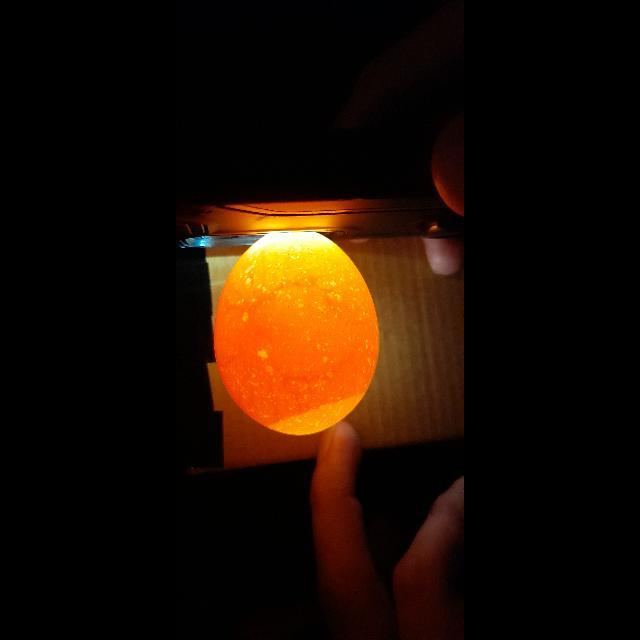Fertile: (212, 226, 384, 438)
